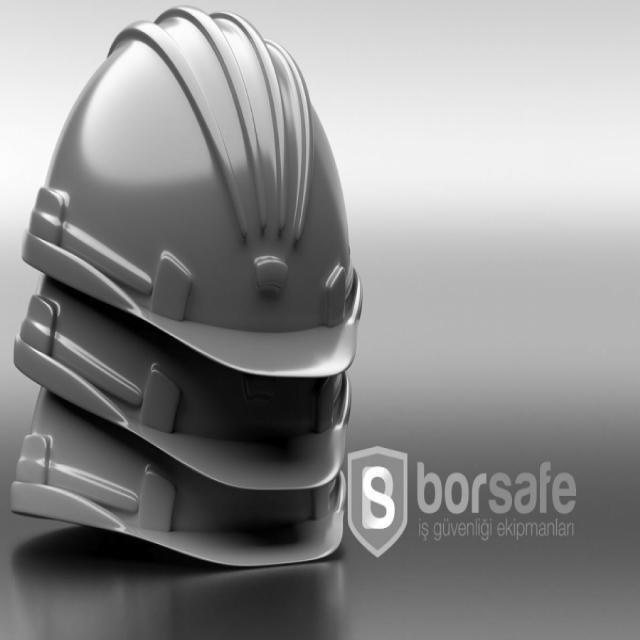safety_helmet: (21, 7, 365, 383)
